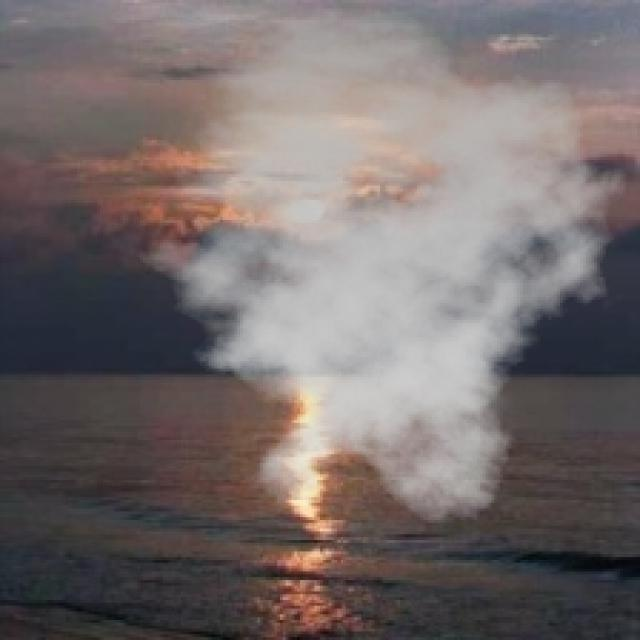Smoke: (117, 6, 637, 528)
